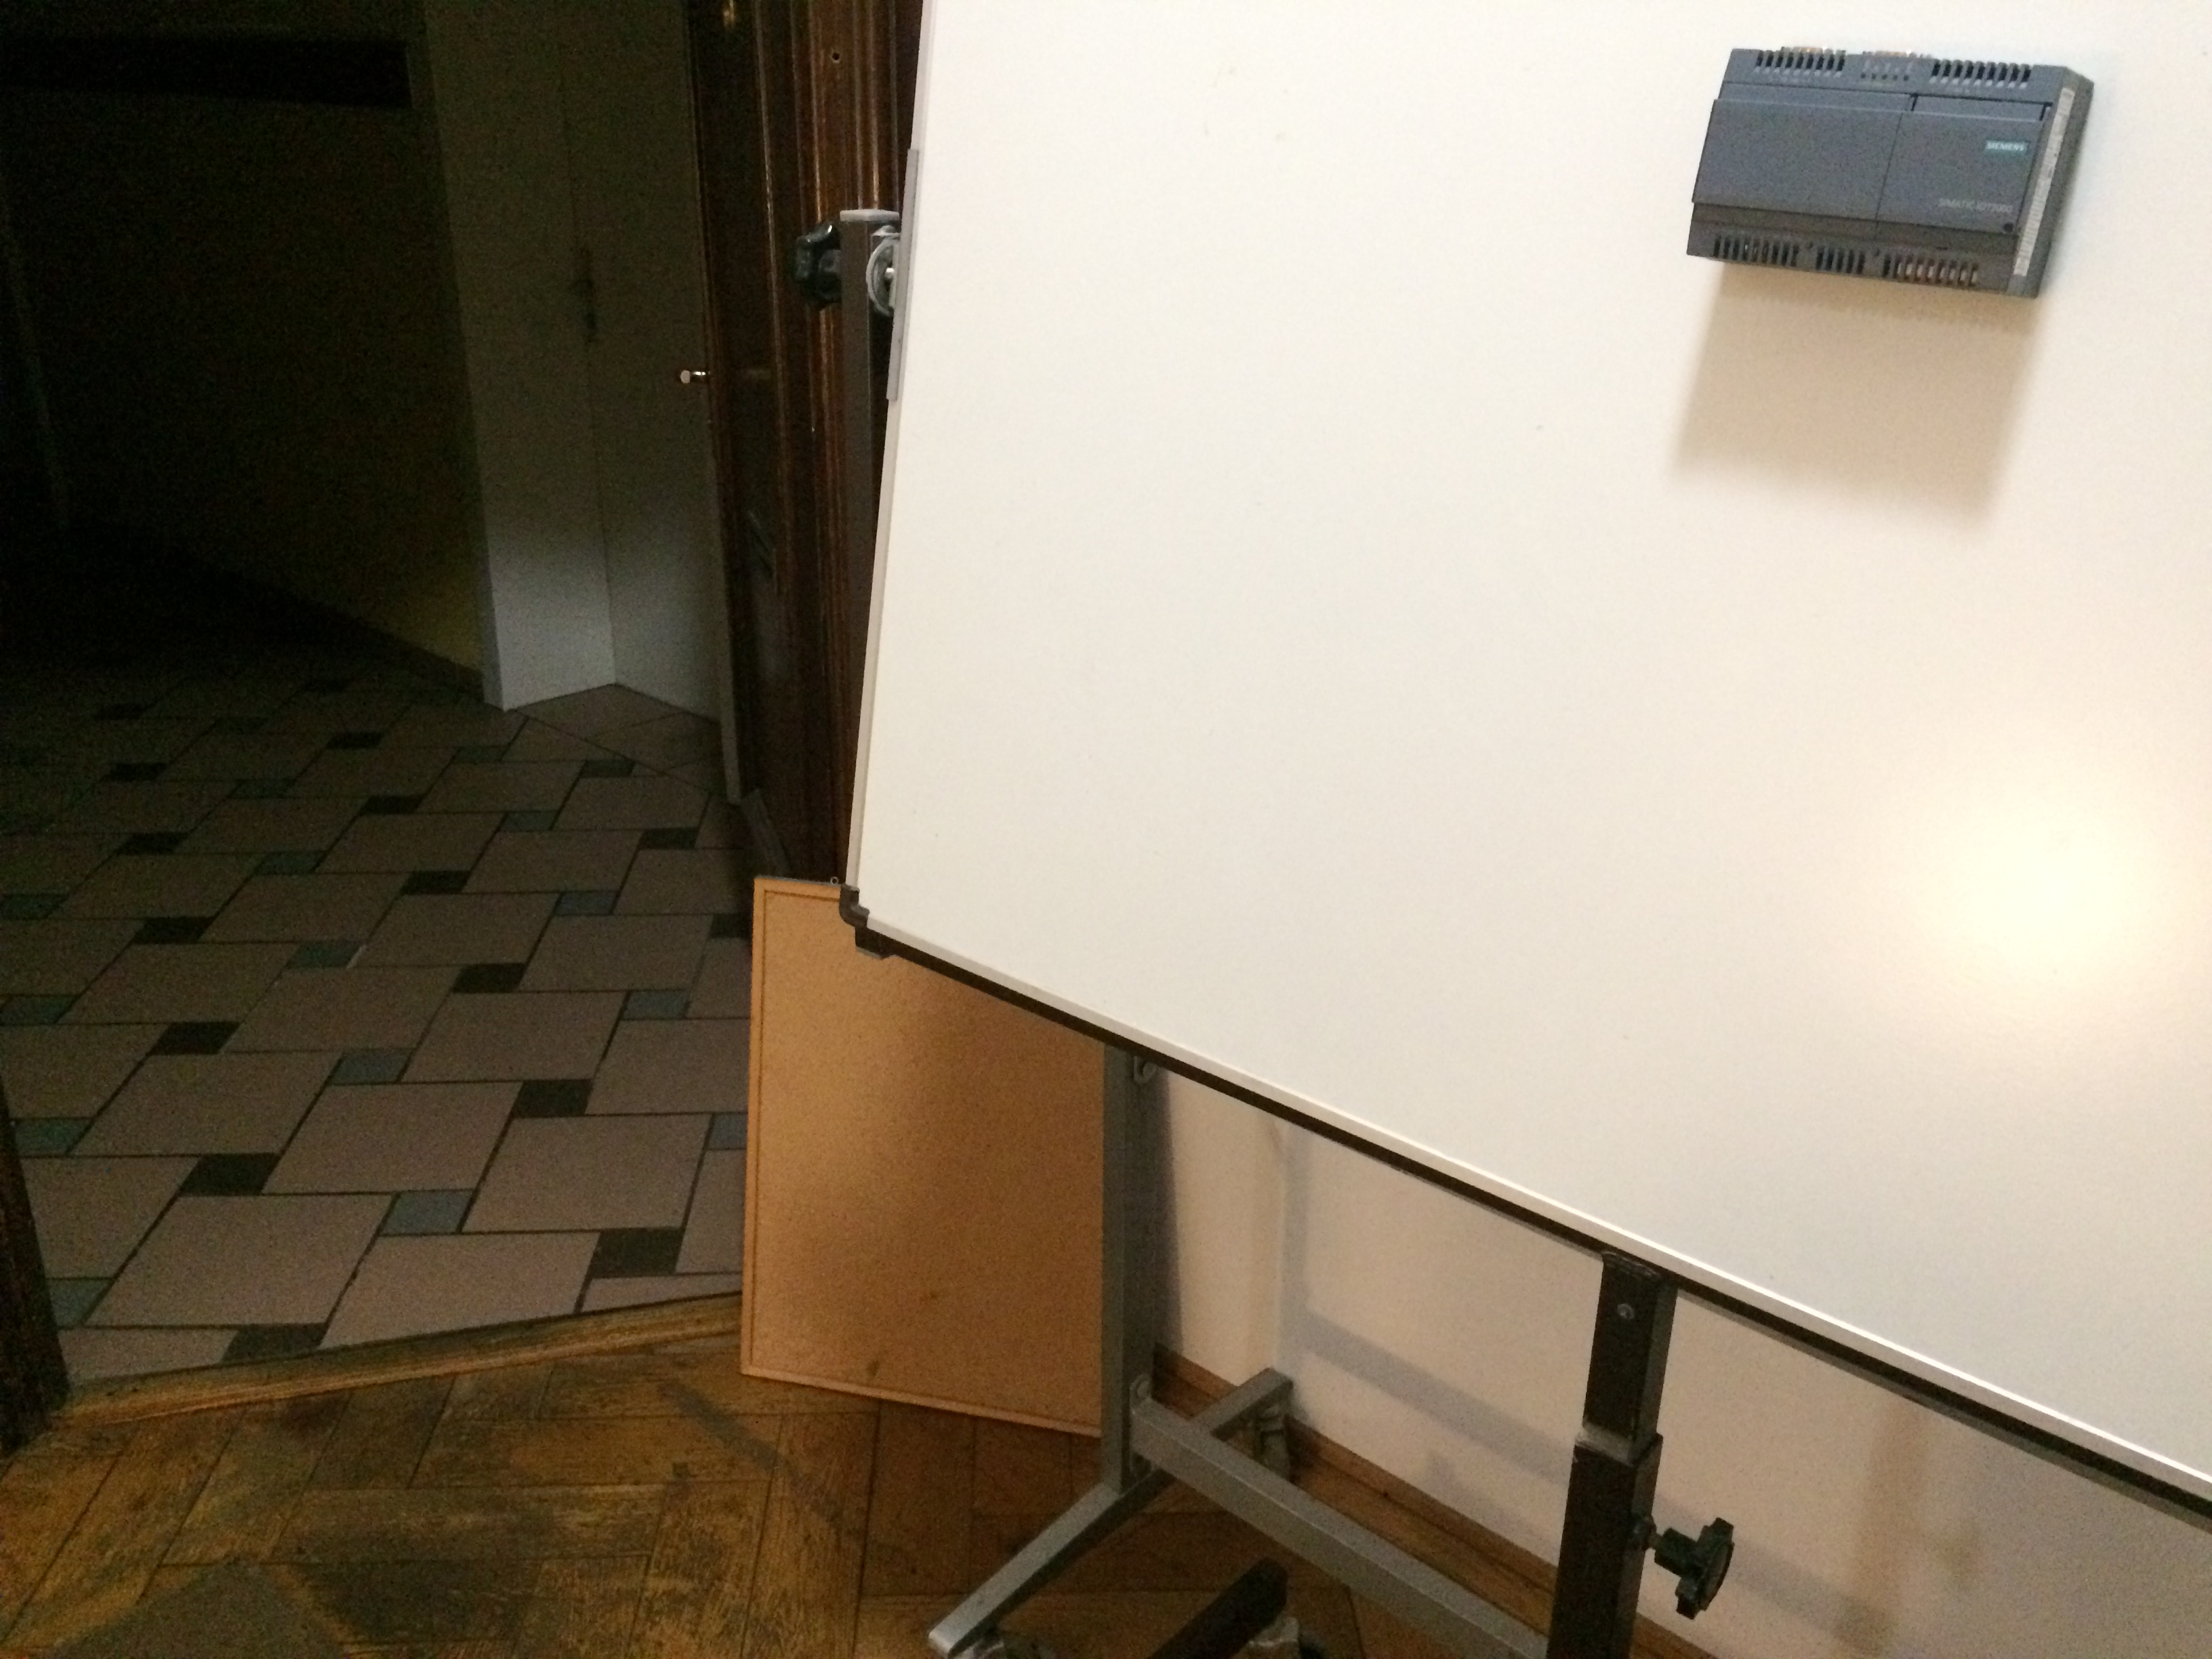iot2000: (1684, 42, 2099, 305)
